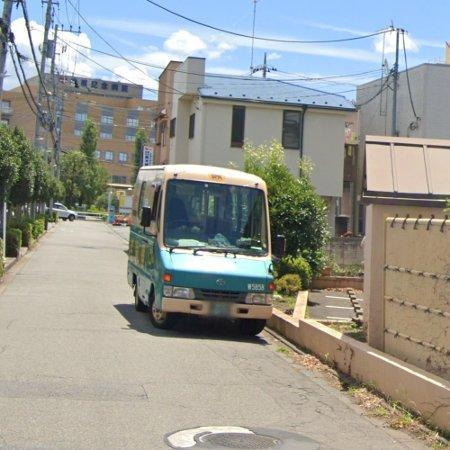buses: (128, 167, 275, 337)
